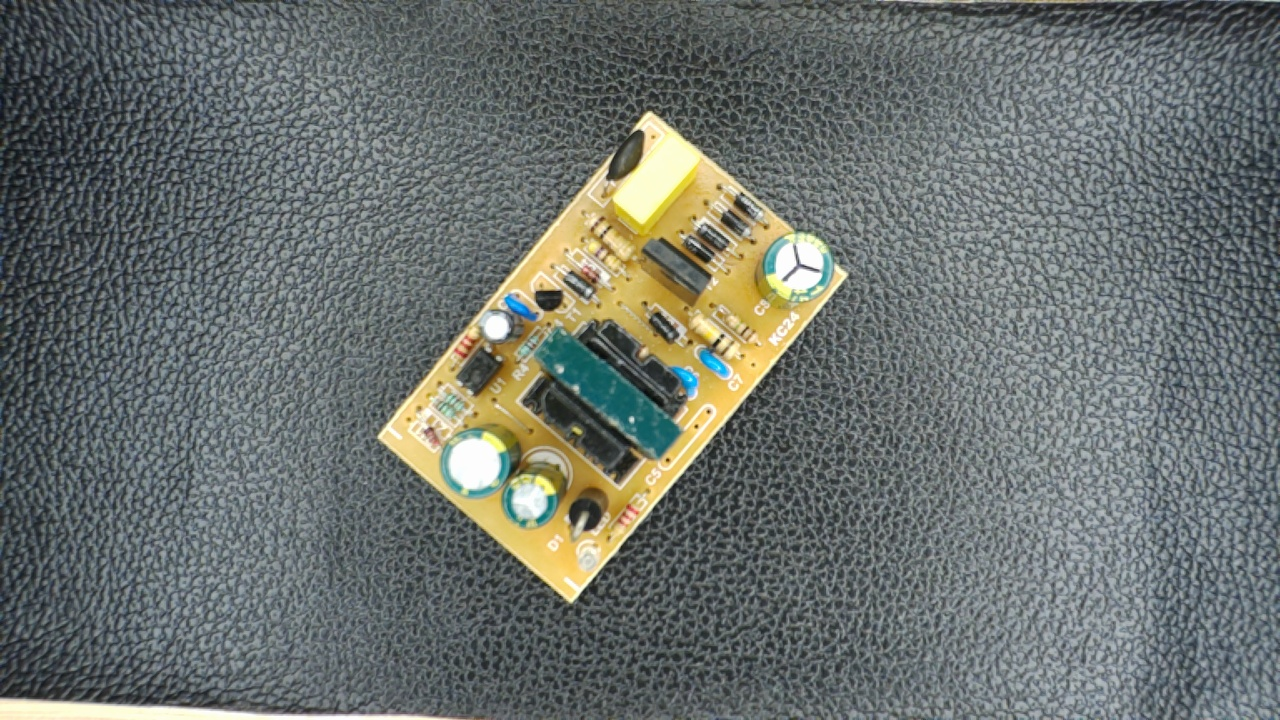fuse: (600, 125, 650, 197)
hv_capacitor: (752, 225, 840, 308)
optocoupler: (449, 348, 512, 396)
